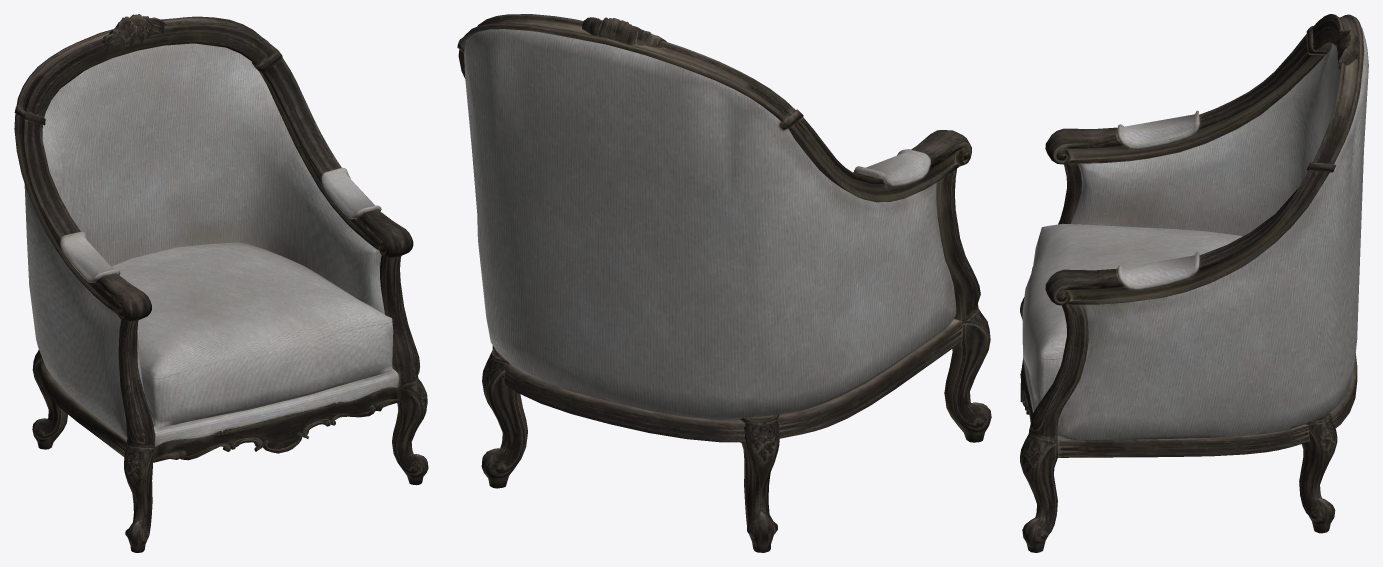
The model's file is old-chair.glb.
3 views of the same model, side by side, from view 1: azimuth 30°, elevation 25°; view 2: azimuth 150°, elevation 25°; view 3: azimuth 270°, elevation 25° (orthographic). The views are drawn at different scales.
Visible parts, largest first — view 1: old-chair; view 2: old-chair; view 3: old-chair.
Part boxes in pixels (x1,y1,x2,y2): old-chair: [14, 14, 428, 552]; old-chair: [457, 14, 991, 552]; old-chair: [1020, 14, 1368, 552].
Bounding box in the file's own units: 0.8482 × 1.07 × 0.7655.
Materials: 1 (1 with a texture image).
